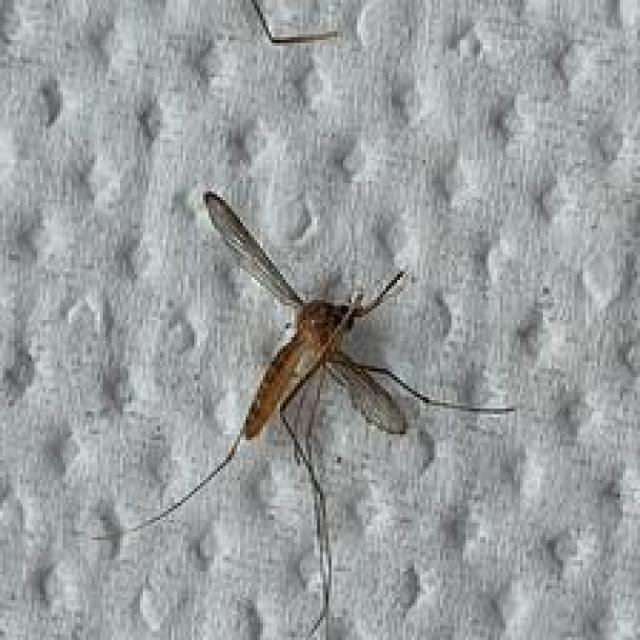Culex: (80, 188, 517, 640)
